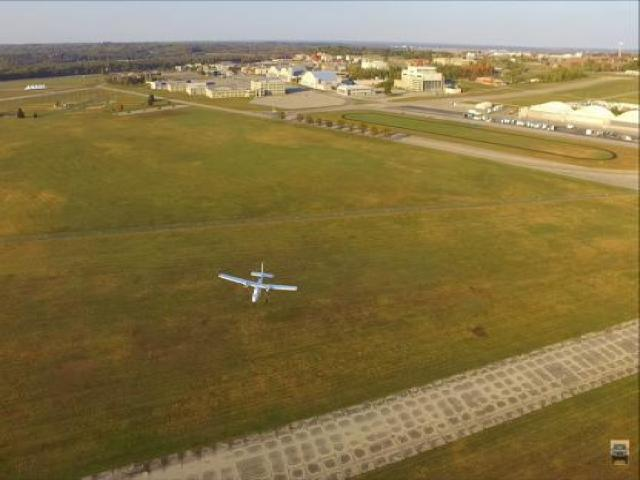uav: (218, 256, 299, 305)
